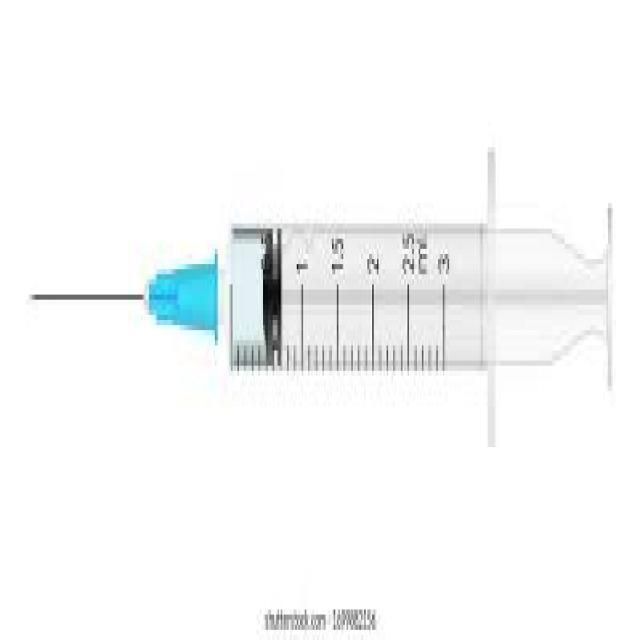syringe: (53, 177, 627, 448)
